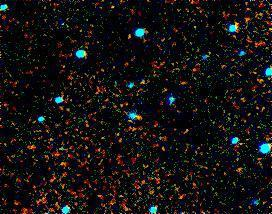star: (122, 101, 152, 131)
